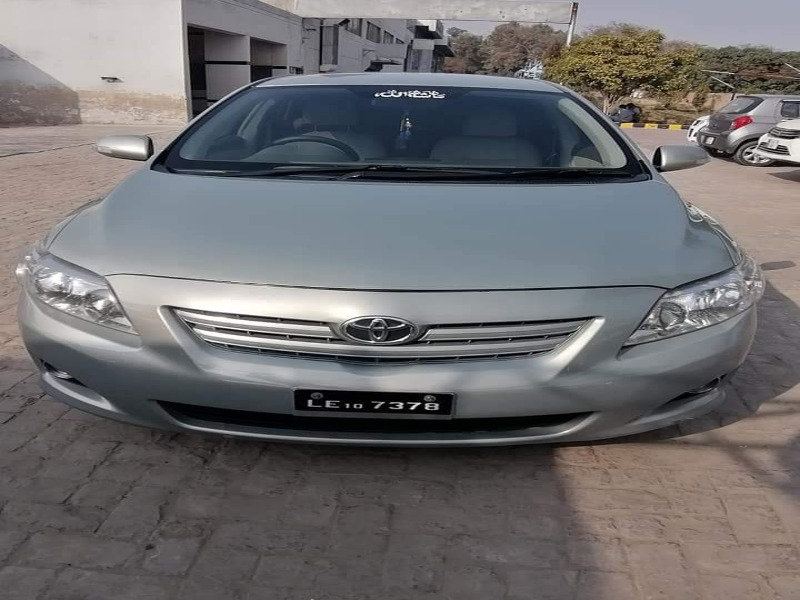License Plate: (291, 385, 462, 430)
